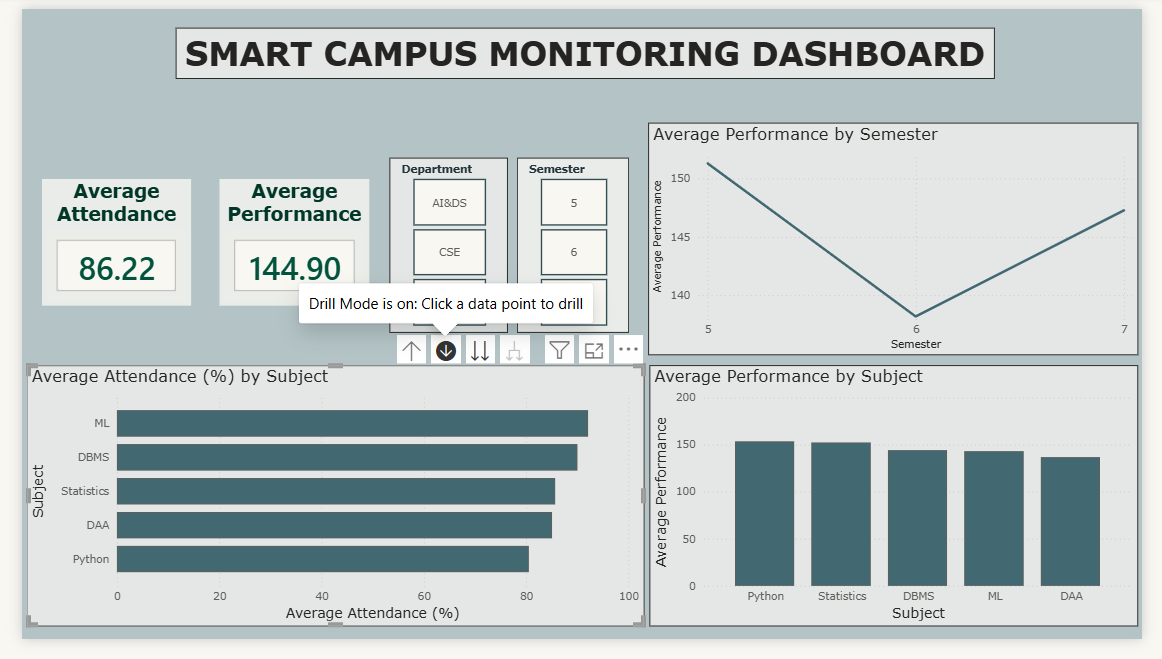

This screenshot's page, from the dashboard's own definition file:
{"tool":"powerbi","page":{"name":"Page 1","canvas":[1280,720],"ordinal":0},"visuals":[{"type":"cardVisual","title":"Average Attendance","fields":{"Data":["5 student_performance.Average Attendance (%)"]},"box":[23.2,194.3,170,145],"z":0},{"type":"clusteredBarChart","fields":{"Category":["5 student_performance.Department","5 student_performance.Subject","5 student_performance.Student_ID"],"Y":["5 student_performance.Average Attendance (%)"]},"box":[5.7,407.1,705.7,298.6],"z":1000},{"type":"clusteredColumnChart","fields":{"Category":["5 student_performance.Subject"],"Y":["5 student_performance.Average Performance"]},"box":[717.1,407.1,558.6,298.6],"z":2000},{"type":"lineChart","fields":{"Category":["5 student_performance.Semester"],"Y":["5 student_performance.Average Performance"]},"box":[715.7,130.6,560,265.7],"z":3000},{"type":"slicer","fields":{"Values":["5 student_performance.Department"]},"box":[420,169.4,135,200],"z":4000},{"type":"textbox","box":[175.7,21.4,935.7,58.6],"z":5000},{"type":"cardVisual","title":"Average Performance","fields":{"Data":["5 student_performance.Average Performance"]},"box":[225.7,194.3,171.2,145],"z":6000},{"type":"slicer","fields":{"Values":["5 student_performance.Semester"]},"box":[565.7,169.6,127.8,200],"z":7000}]}

Visuals, with their boxes in screenshot pixels (x1, y1, x2, y2), scaled from the page's 1280x720 canvas onto the 1162x659 screenshot:
"Average Attendance" cardVisual: [left=21, top=178, right=175, bottom=311]
clusteredBarChart - 5 student_performance.Department x 5 student_performance.Subject: [left=5, top=373, right=646, bottom=646]
clusteredColumnChart - 5 student_performance.Subject x 5 student_performance.Average Performance: [left=651, top=373, right=1158, bottom=646]
lineChart - 5 student_performance.Semester x 5 student_performance.Average Performance: [left=650, top=120, right=1158, bottom=363]
slicer - 5 student_performance.Department: [left=381, top=155, right=504, bottom=338]
textbox: [left=160, top=20, right=1009, bottom=73]
"Average Performance" cardVisual: [left=205, top=178, right=360, bottom=311]
slicer - 5 student_performance.Semester: [left=514, top=155, right=630, bottom=338]
